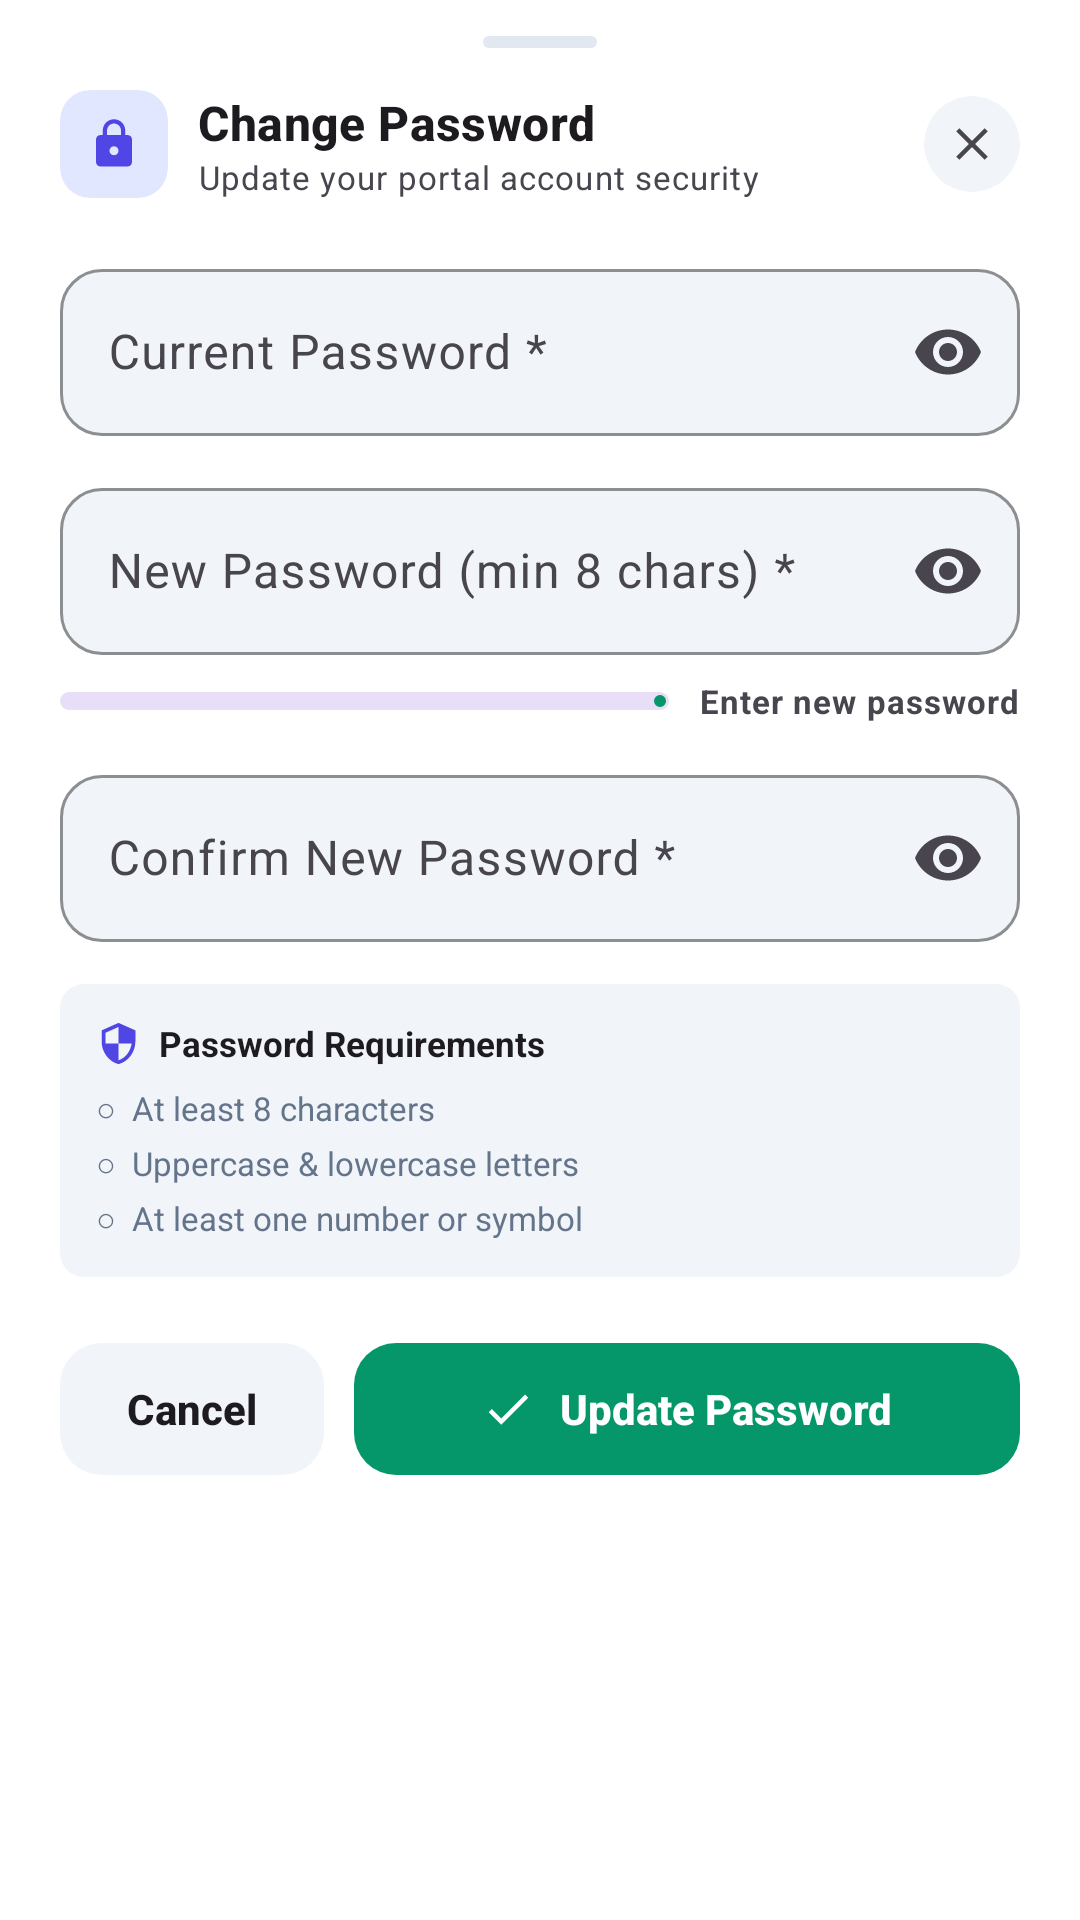

Icons on this 1080x1920 Android screen, each with the point to tap as [x,y]:
close: [972,144]
lock: [114,143]
shield: [118,1043]
